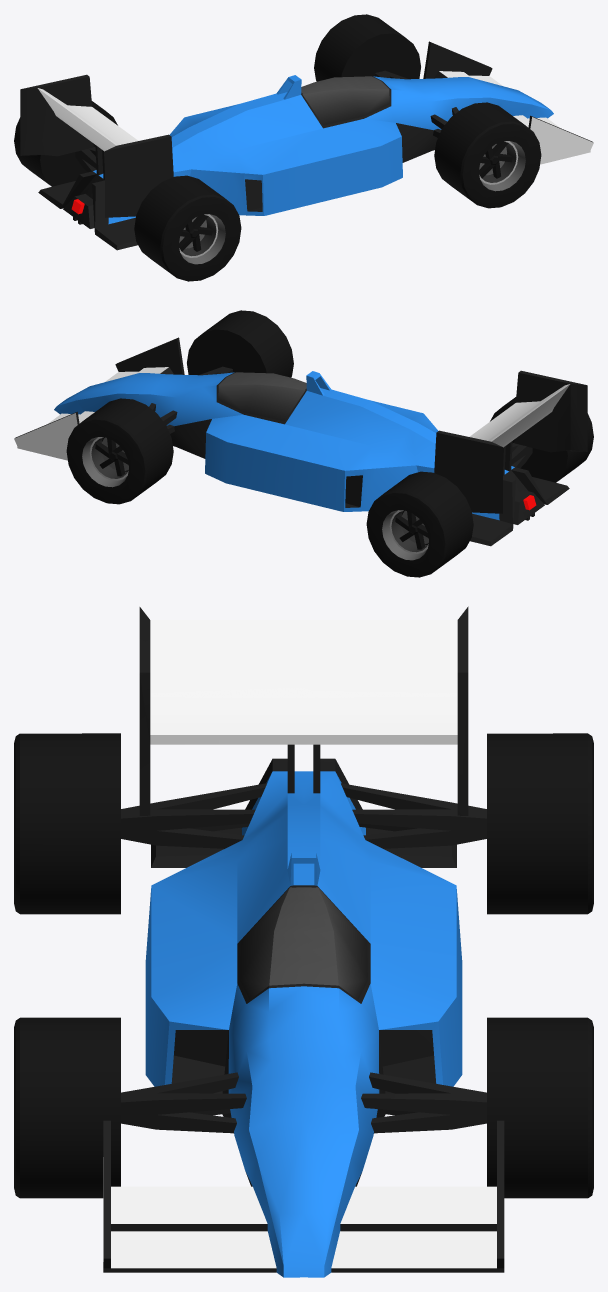
The model's file is RaceCar_011.glb.
The picture shows the model from 3 angles, top to bottom: view 1: azimuth 30°, elevation 25°; view 2: azimuth 150°, elevation 25°; view 3: azimuth 270°, elevation 25°; orthographic projection. The views are drawn at different scales.
Visible parts, largest first — view 1: RaceCar_011, wheel_1_RaceCar_011_Wheel_1R, wheel_3_RaceCar_011_Wheel_2R, wheel_0_RaceCar_011_Wheel_1L, wheel_2_RaceCar_011_Wheel_2L; view 2: RaceCar_011, wheel_2_RaceCar_011_Wheel_2L, wheel_0_RaceCar_011_Wheel_1L, wheel_1_RaceCar_011_Wheel_1R, wheel_3_RaceCar_011_Wheel_2R; view 3: RaceCar_011, wheel_2_RaceCar_011_Wheel_2L, wheel_3_RaceCar_011_Wheel_2R, wheel_0_RaceCar_011_Wheel_1L, wheel_1_RaceCar_011_Wheel_1R.
Part boxes in pixels (x1,y1,x2,y2): RaceCar_011: (20, 41, 593, 250); wheel_1_RaceCar_011_Wheel_1R: (434, 102, 541, 208); wheel_3_RaceCar_011_Wheel_2R: (134, 175, 241, 281); wheel_0_RaceCar_011_Wheel_1L: (314, 14, 420, 81); wheel_2_RaceCar_011_Wheel_2L: (14, 101, 117, 186); RaceCar_011: (14, 337, 587, 546); wheel_2_RaceCar_011_Wheel_2L: (366, 471, 473, 577); wheel_0_RaceCar_011_Wheel_1L: (66, 398, 173, 504); wheel_1_RaceCar_011_Wheel_1R: (187, 310, 293, 377); wheel_3_RaceCar_011_Wheel_2R: (490, 397, 593, 482); RaceCar_011: (103, 606, 504, 1277); wheel_2_RaceCar_011_Wheel_2L: (487, 733, 593, 914); wheel_3_RaceCar_011_Wheel_2R: (14, 733, 120, 914); wheel_0_RaceCar_011_Wheel_1L: (487, 1017, 593, 1198); wheel_1_RaceCar_011_Wheel_1R: (14, 1017, 120, 1198).
Size of the model in its own units: 4.92 by 1.19 by 2.62.
3 materials, 3 textured.
